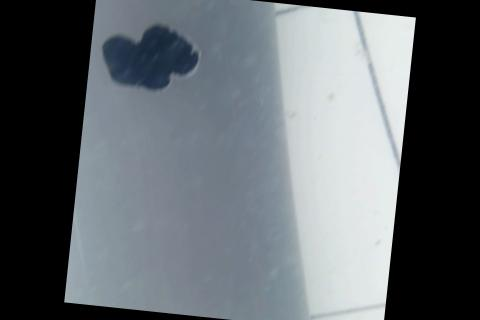kebocoran: (95, 15, 206, 95)
